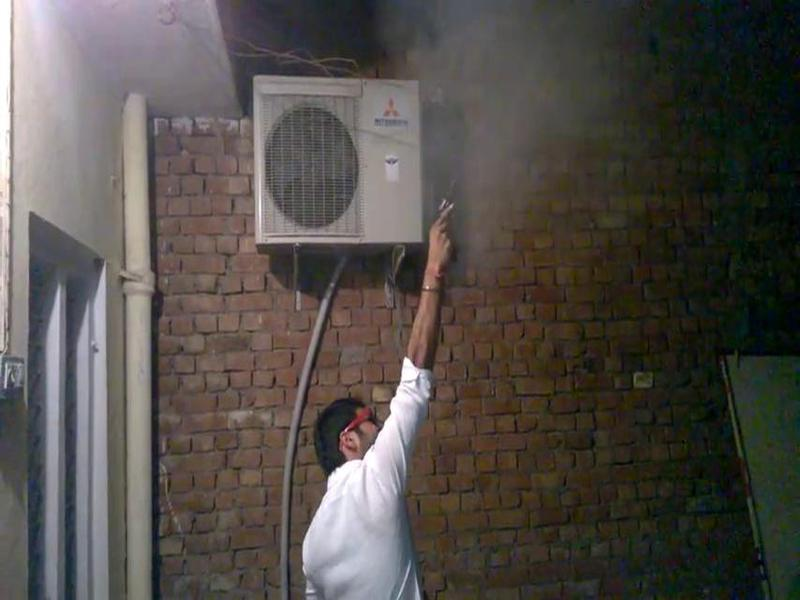Revolver: (422, 162, 477, 268)
